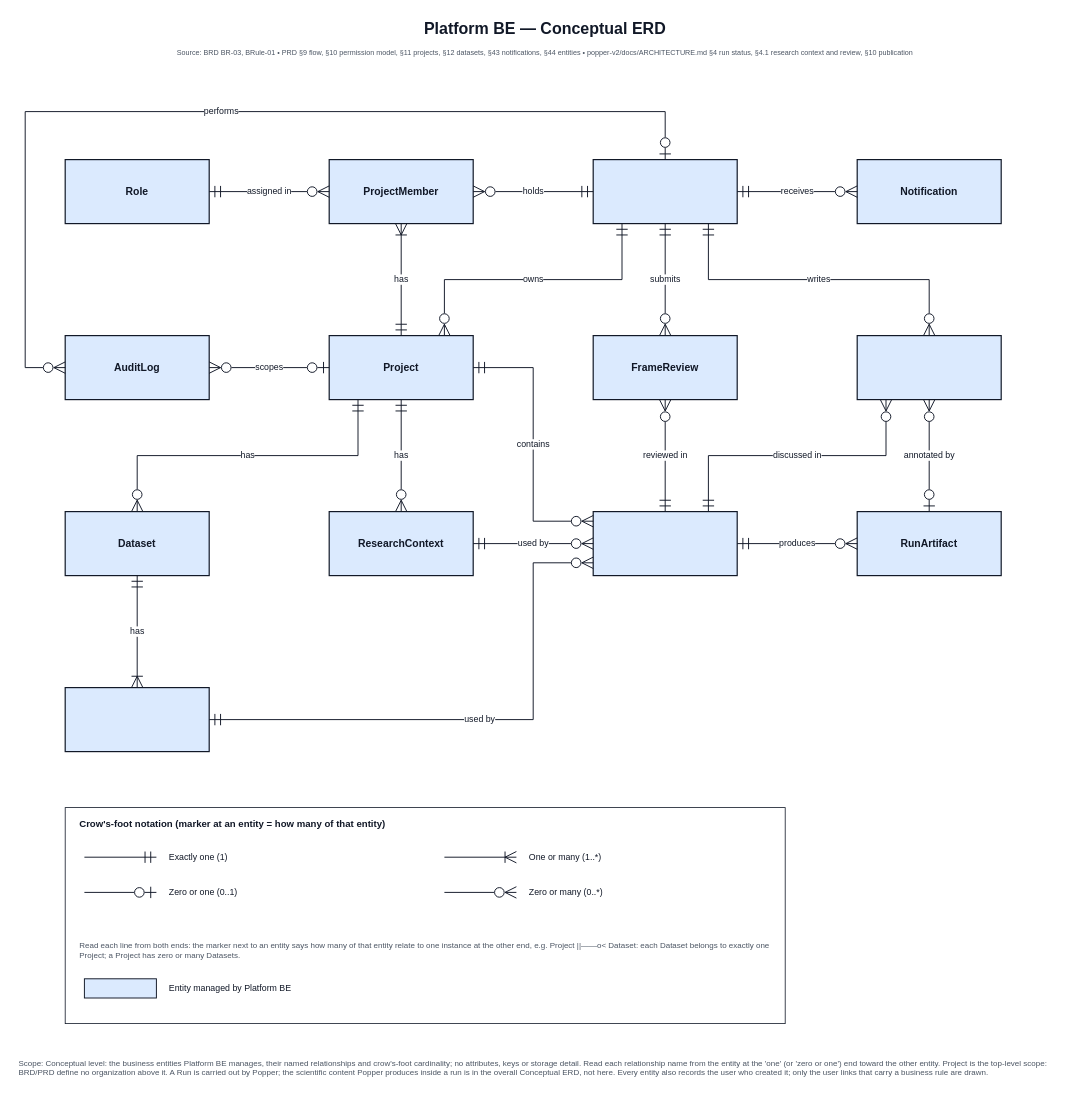
Some shapes in this 1087 by 1101 pixel diagram are drawn without their labels. The box of each missing label's shape, as (x1, y1, x2, y2) in pixels:
Comment: (856, 335, 1001, 400)
DatasetVersion: (64, 687, 209, 752)
Run: (592, 511, 737, 576)
User: (592, 159, 737, 224)
